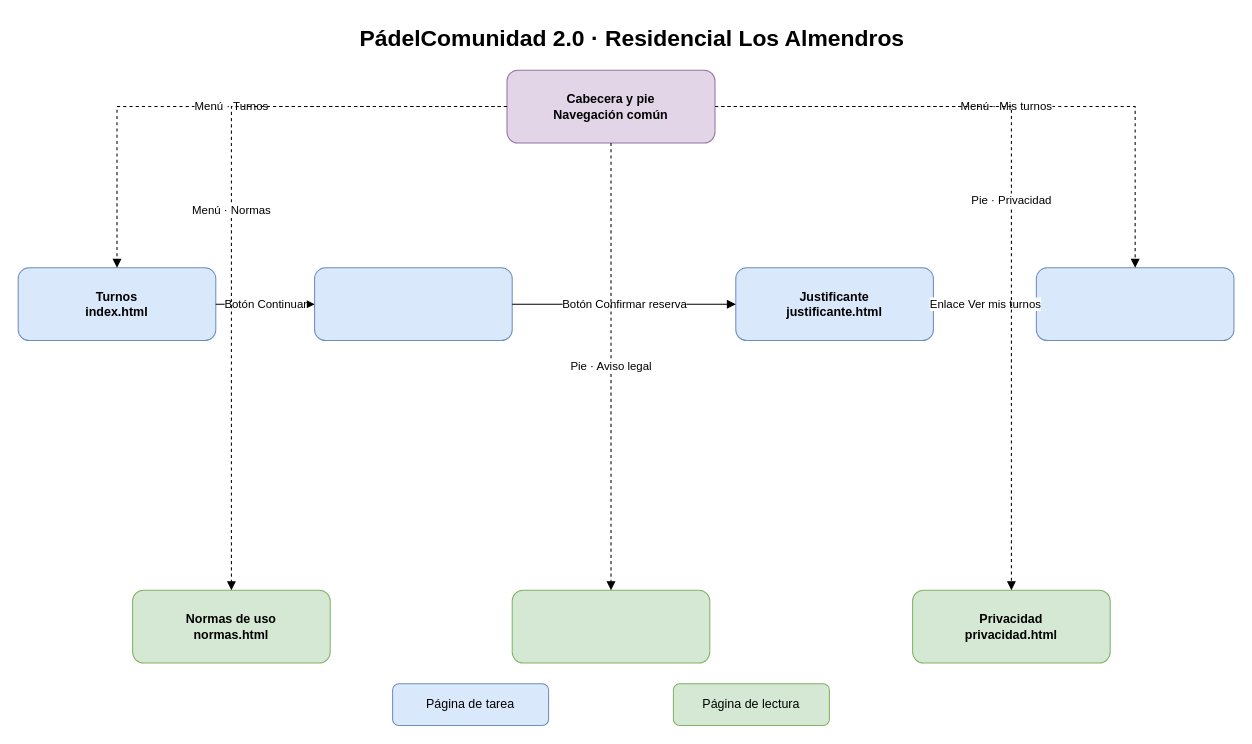
The diagram is 1252 pixels wide and 744 high, and some of its shapes have lost their labels. The centre of each missing label's shape, as x and y in pixels:
Aviso legal aviso-legal.html: point 610,626
Confirmar reserva reserva.html: point 413,304
Mis turnos mis-turnos.html: point 1134,304
